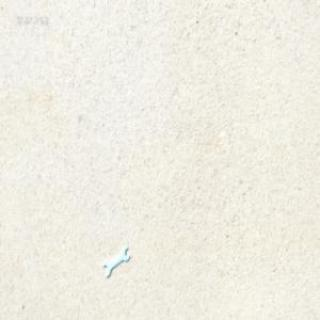Wrenchtrack_idkeyframe: (102, 246, 128, 276)
